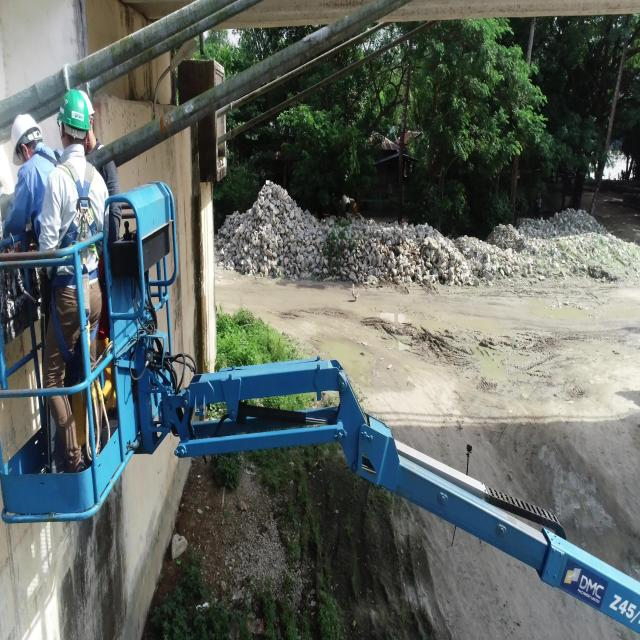corrosion: (158, 116, 164, 140), (166, 115, 173, 134), (109, 147, 115, 158)
crack: (228, 78, 230, 95), (189, 7, 191, 17)
